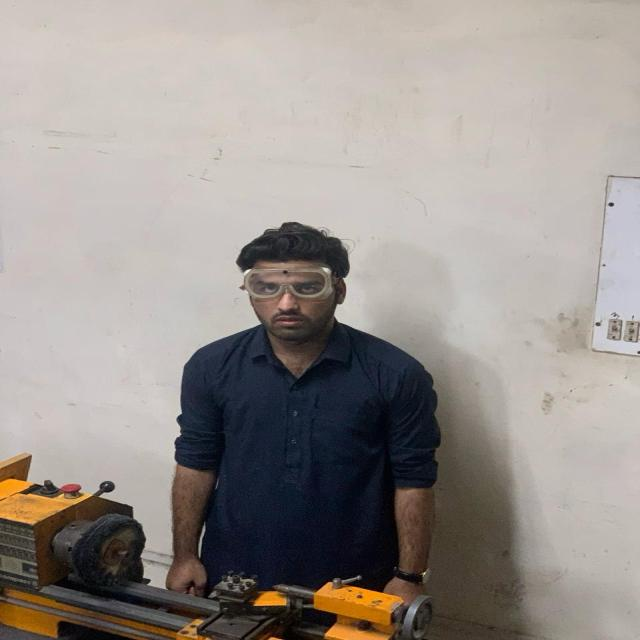googles: (240, 266, 334, 301)
